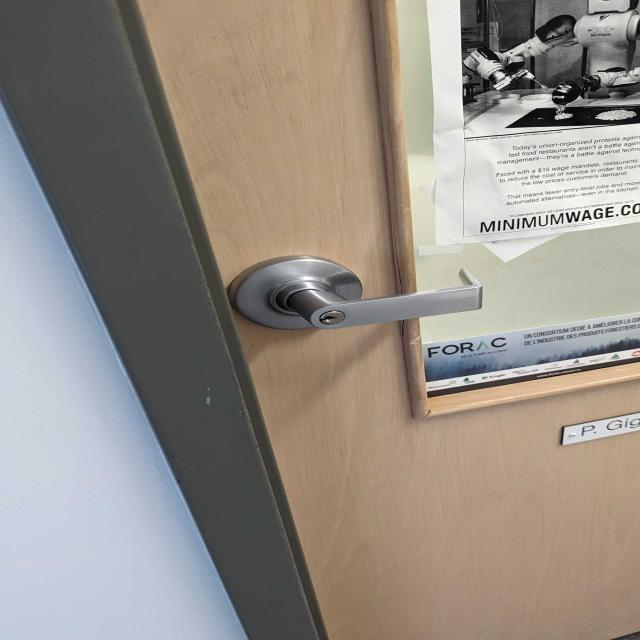door-handle: (229, 255, 482, 330)
